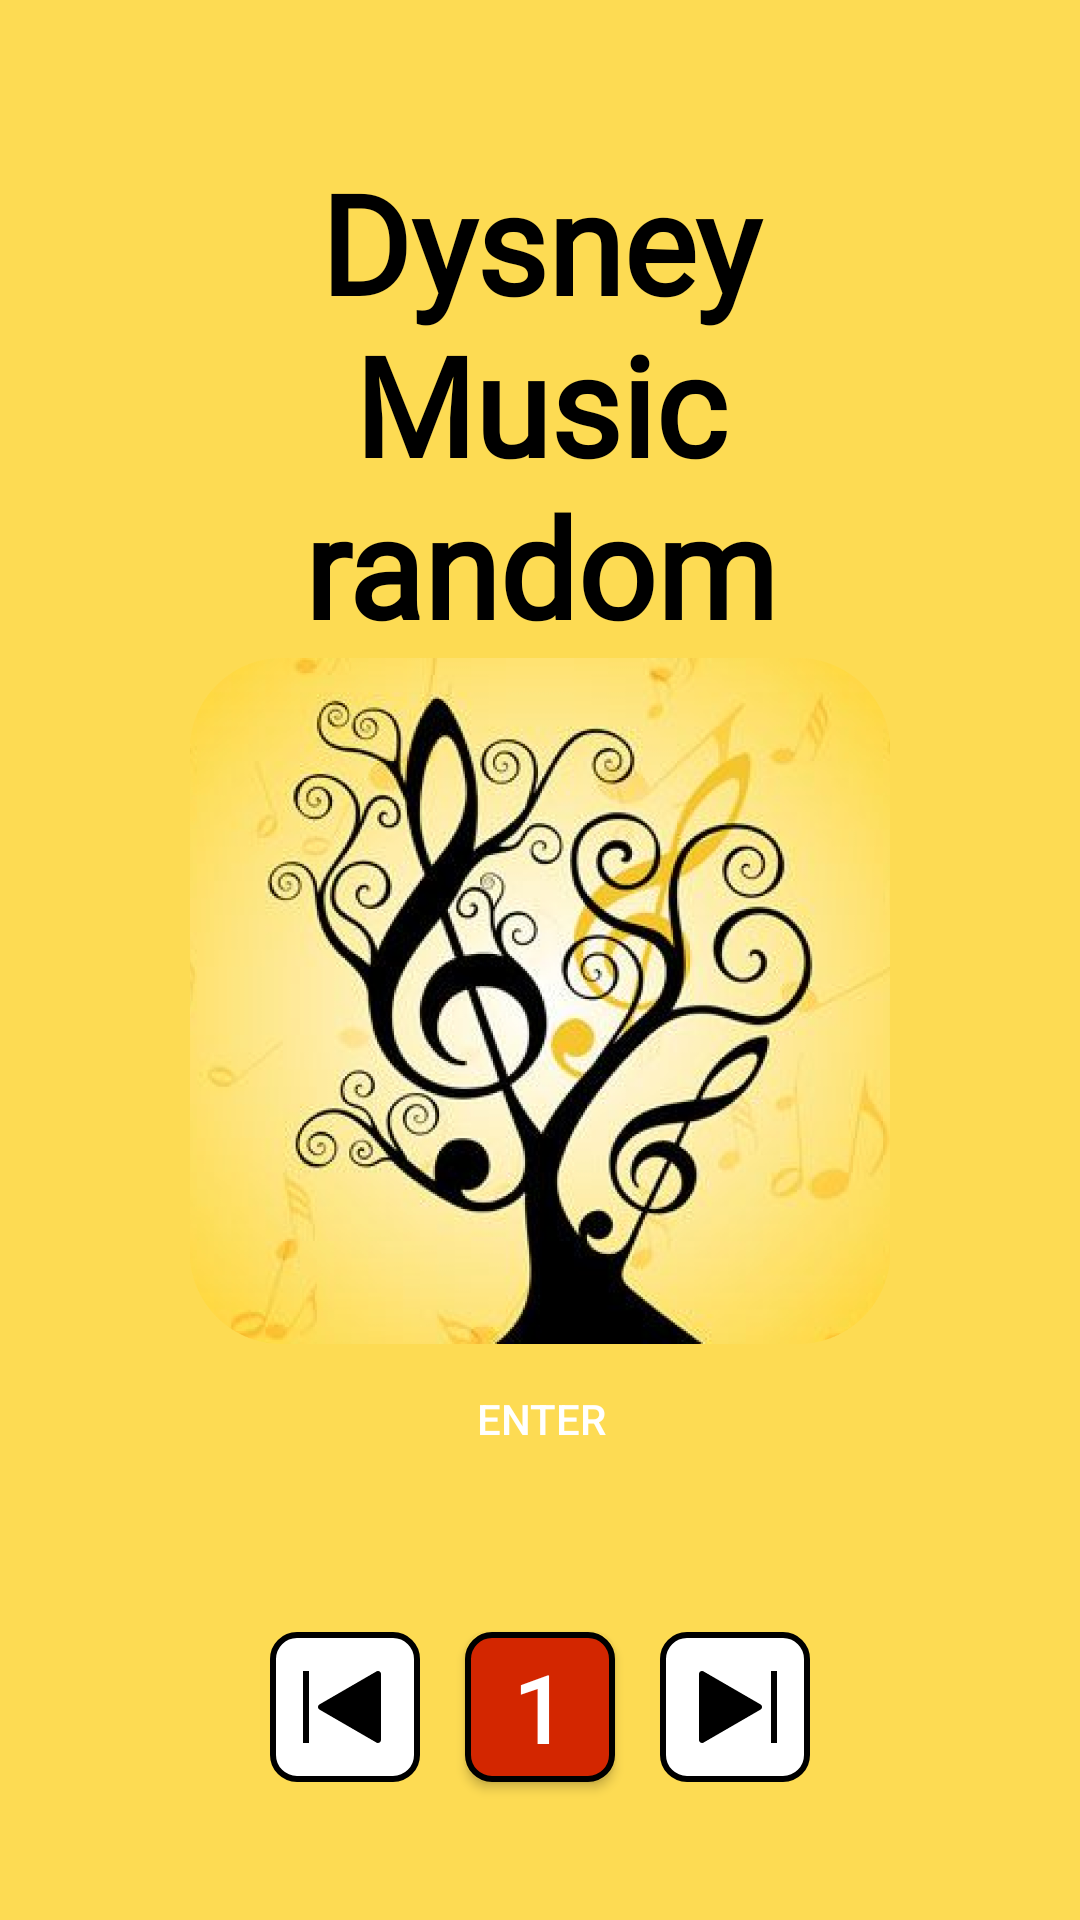

Icon click points for this 1080 x 1920 phone screenshot, format [x,y]:
back: [345,1707]
